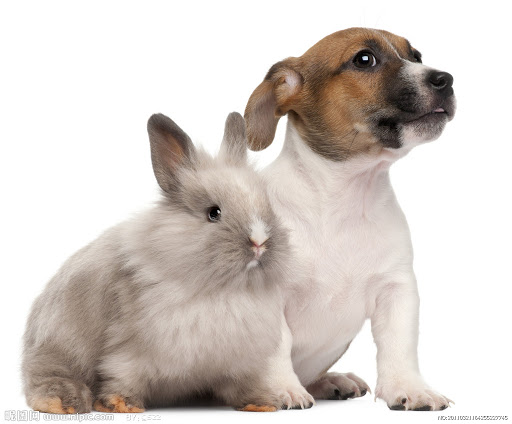dog: (246, 21, 473, 412)
rabbit: (12, 113, 319, 407)
